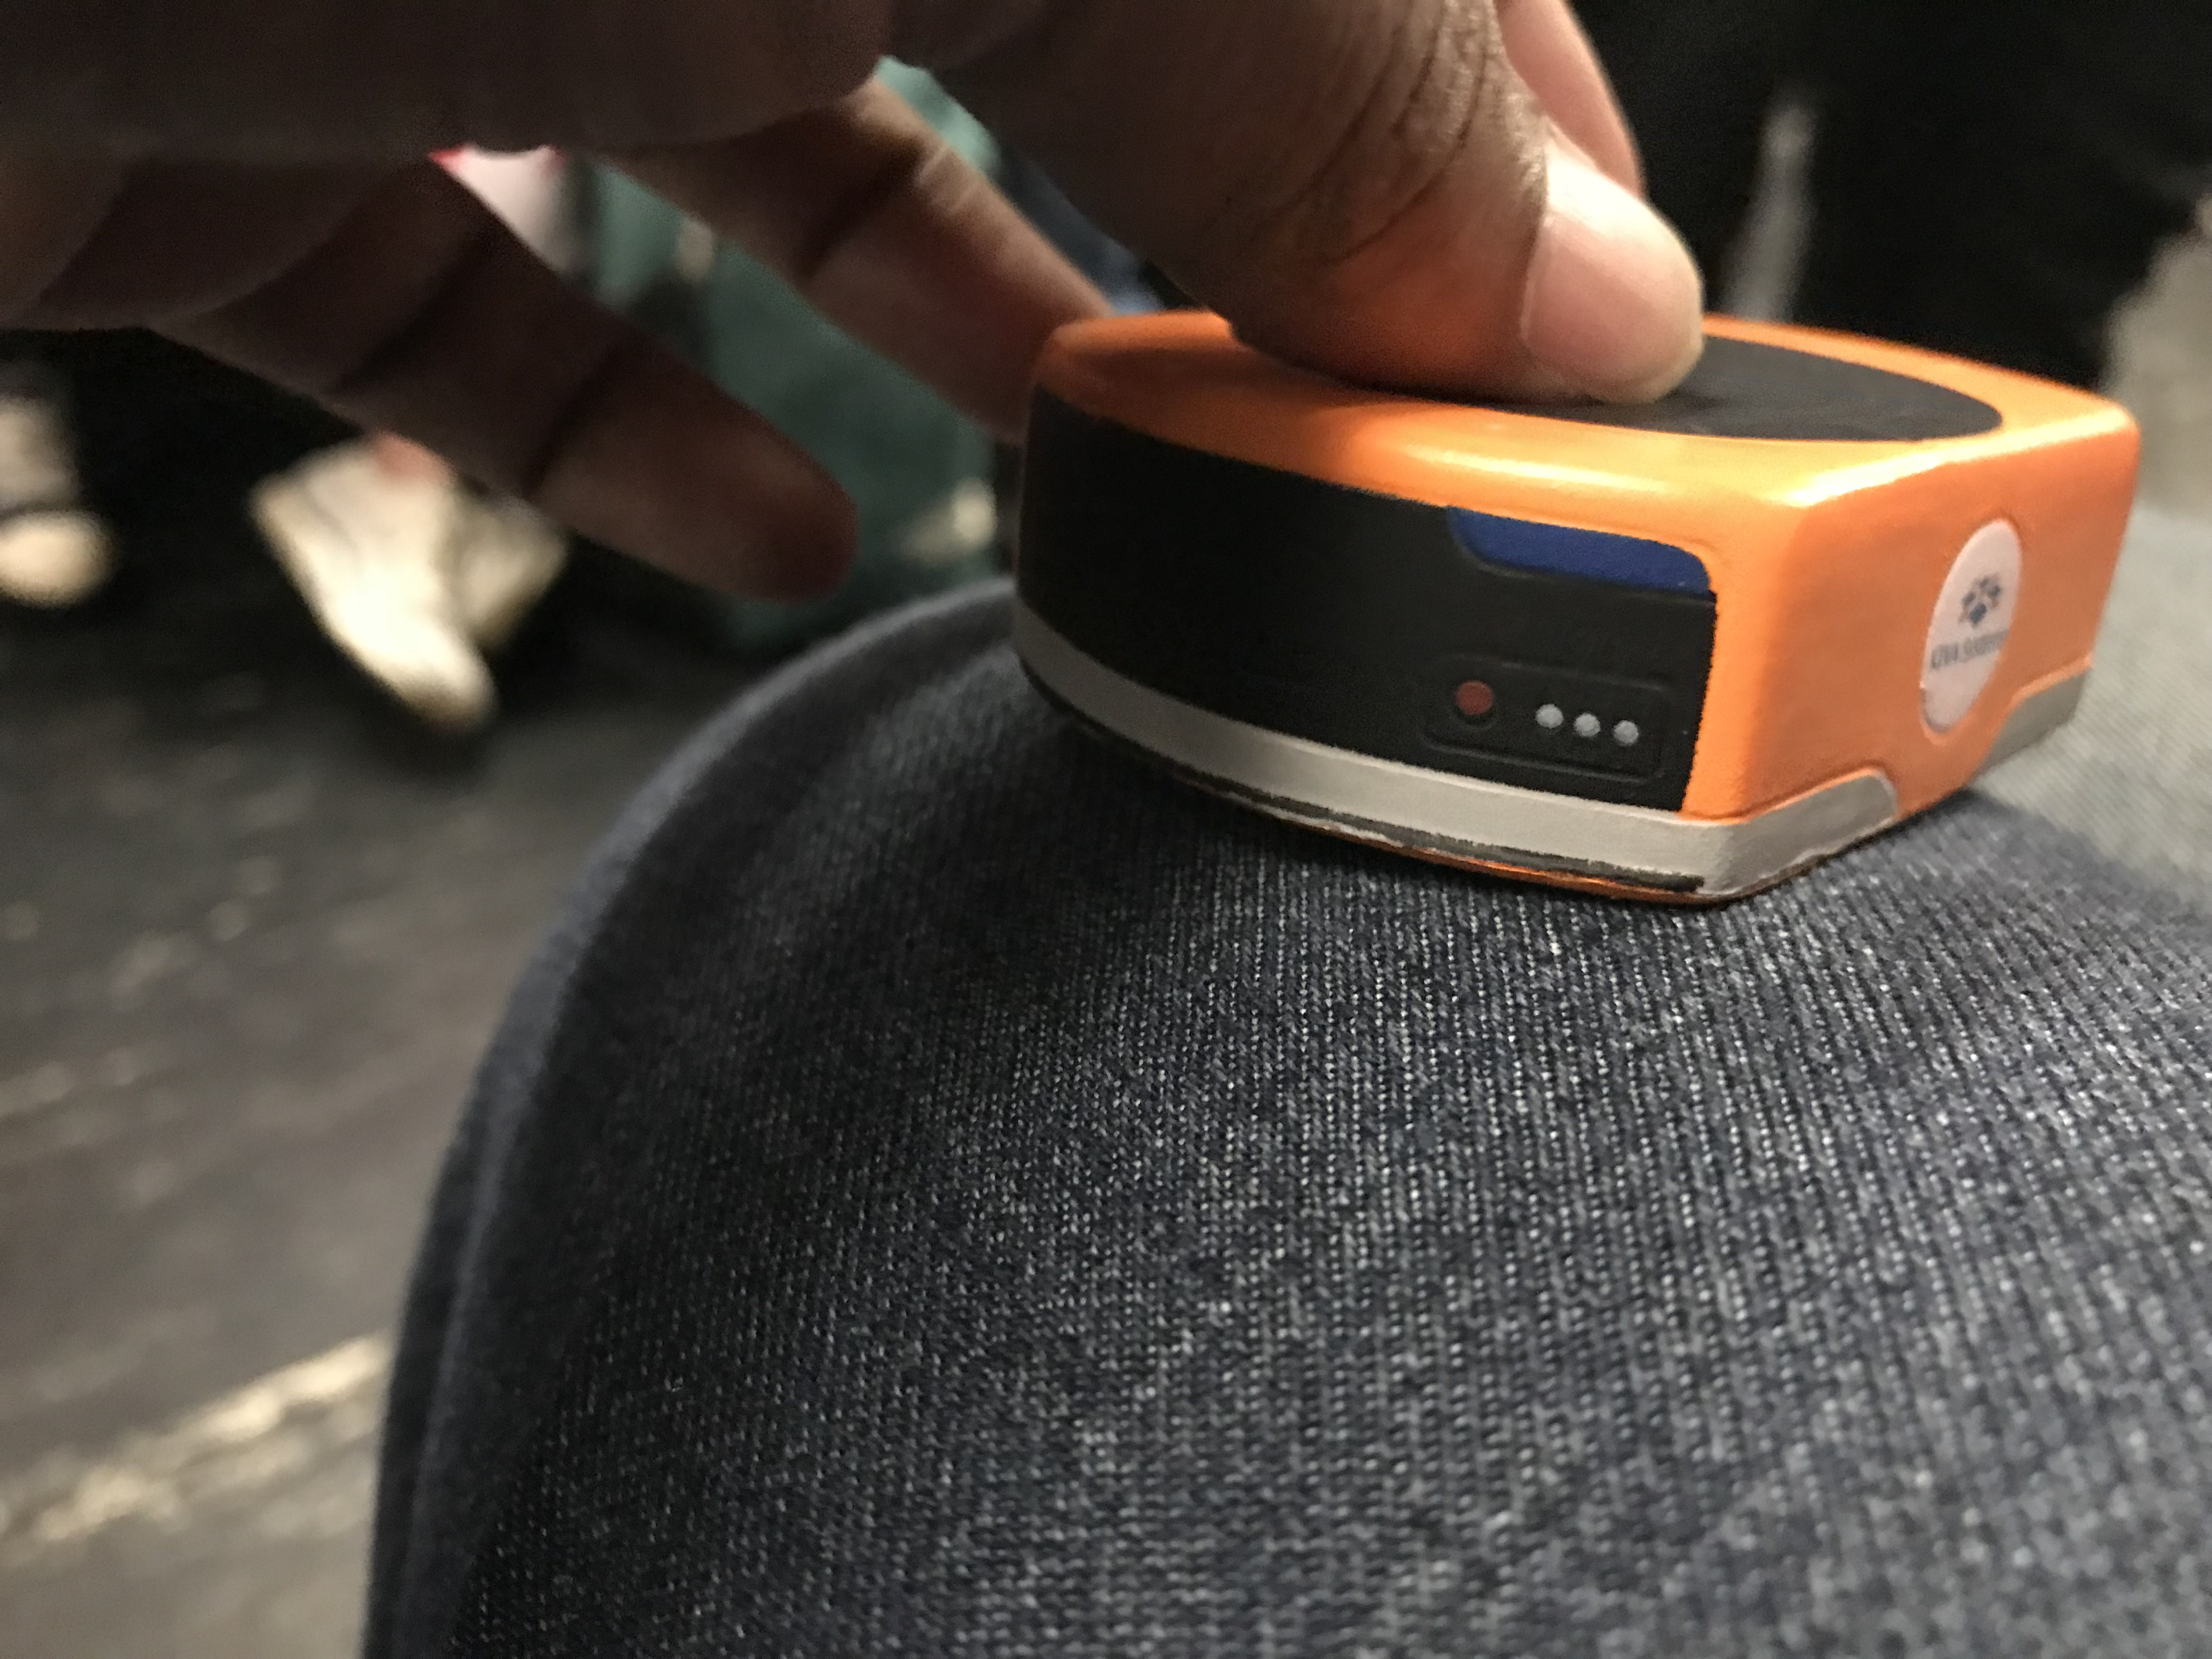amazon_bot: (1010, 310, 2170, 953)
